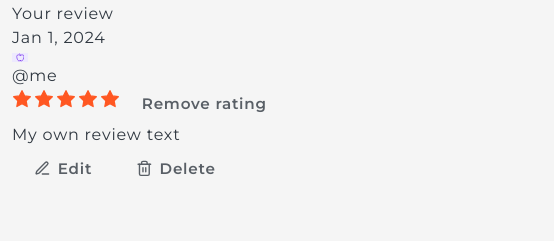
OwnReviewCard › editing: fewer than 5 chars shows an inline error and does not save
The width and height of the screenshot is (554, 241).
Click the button "Edit": (63, 168) [12,149,114,187]
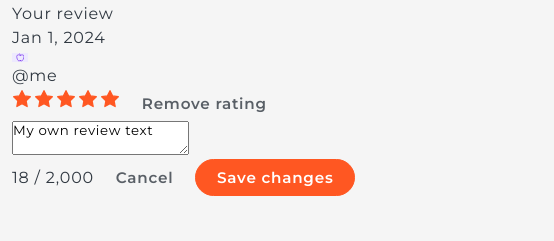
Replace the text in the text box with "Hi": (100, 138) [12,121,189,155]
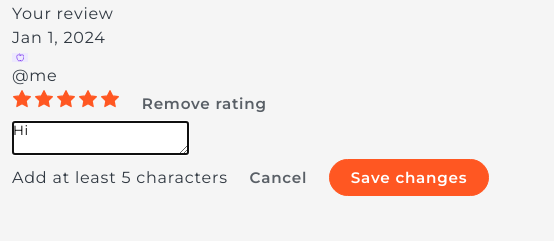
Click the button "Save changes": (409, 178) [329,159,489,196]
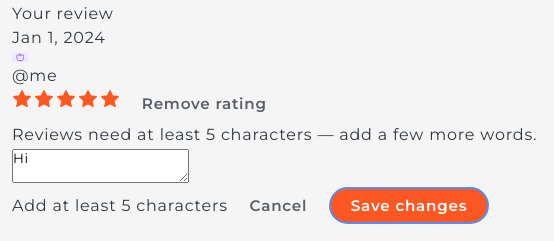
Result: the message shows "at least 5 characters" at [12,125,537,144]
